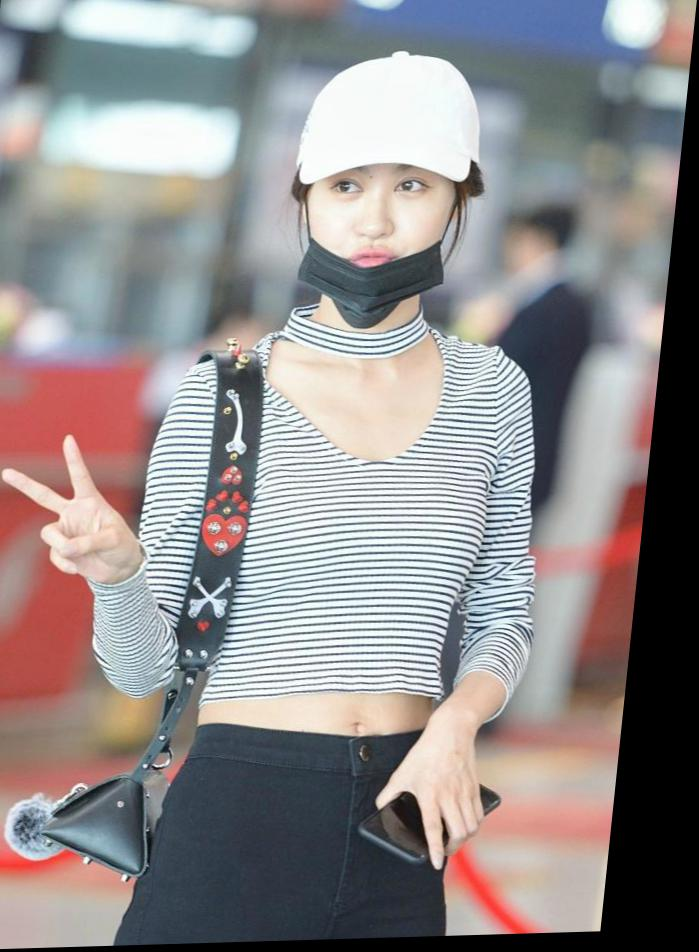WRONG: (304, 158, 459, 315)
